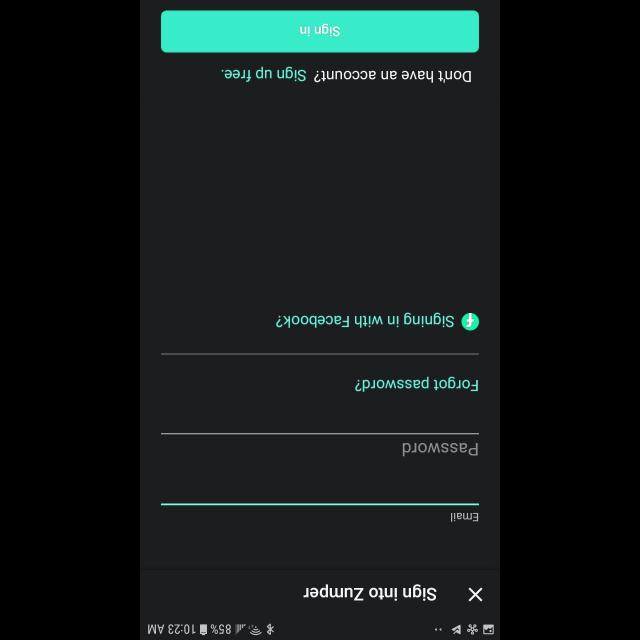icon: (461, 313, 479, 331), (468, 587, 482, 601)
input: (161, 432, 479, 456), (161, 502, 479, 522)
text: (221, 66, 471, 84), (276, 312, 454, 328), (304, 584, 436, 600), (354, 376, 478, 392), (402, 442, 478, 456), (450, 512, 478, 522)
textbutton: (161, 10, 479, 52)
uppertaskbar: (140, 623, 500, 639)
